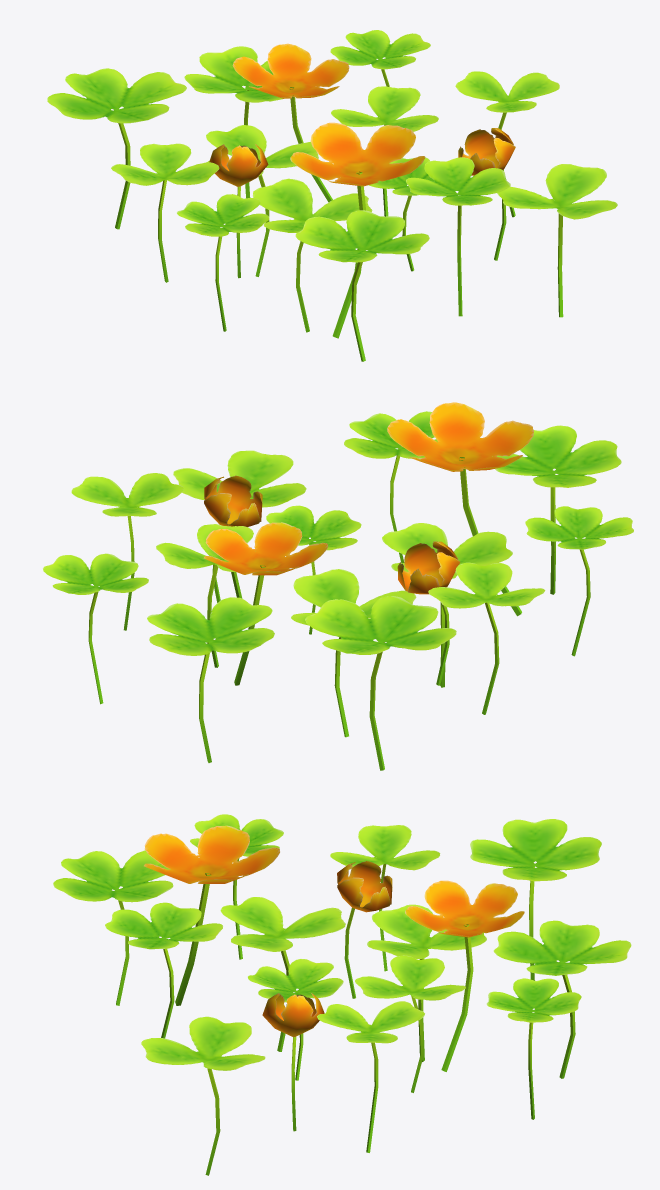
The model's file is clover_orangeflowers.fbx.
3 views of the same model, one above another, from view 1: azimuth 30°, elevation 25°; view 2: azimuth 150°, elevation 25°; view 3: azimuth 270°, elevation 25° (orthographic). The views are drawn at different scales.
Visible parts, largest first — view 1: clover_orangeflowers; view 2: clover_orangeflowers; view 3: clover_orangeflowers.
Part boxes in pixels (x1=…): clover_orangeflowers: x1=47, y1=30, x2=617, y2=361; clover_orangeflowers: x1=43, y1=402, x2=633, y2=770; clover_orangeflowers: x1=53, y1=814, x2=631, y2=1175.
Size of the model in its own units: 144 by 63.76 by 159.
